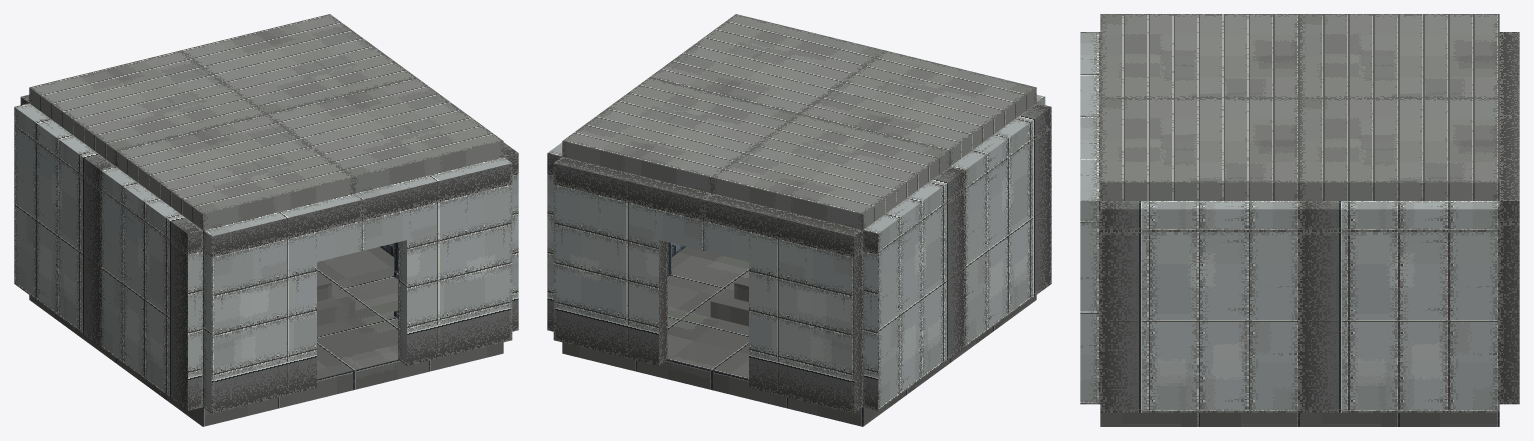
File: shell_treasure_cache.glb
3 views of the same model, side by side, from view 1: azimuth 30°, elevation 25°; view 2: azimuth 150°, elevation 25°; view 3: azimuth 270°, elevation 25° (orthographic). The views are drawn at different scales.
Parts seen in each view (by area): view 1: shell_treasure_cache; view 2: shell_treasure_cache; view 3: shell_treasure_cache.
Boxes of the visible parts, x1,y1,x2,y2 form: shell_treasure_cache: (14, 14, 518, 426); shell_treasure_cache: (547, 14, 1051, 426); shell_treasure_cache: (1080, 14, 1519, 426).
Size of what is drawn, in the model's own units: 8.8 by 5.4 by 8.8.
Materials: 38 (38 with a texture image).
